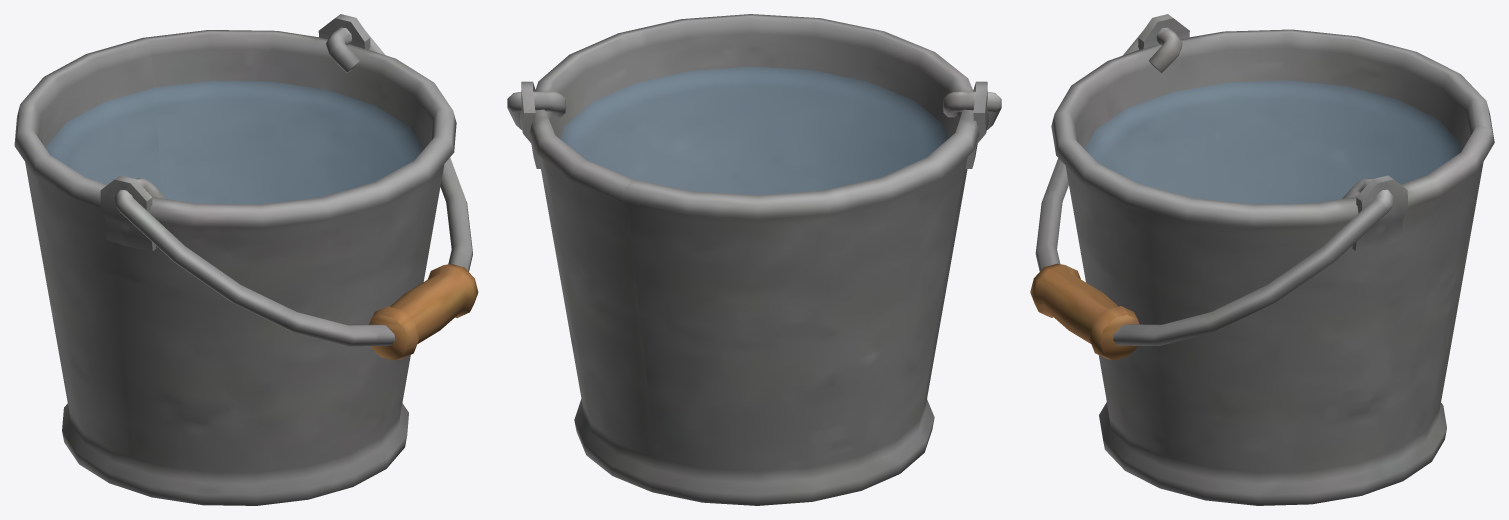
3 views of the same model, side by side, from view 1: azimuth 30°, elevation 25°; view 2: azimuth 150°, elevation 25°; view 3: azimuth 270°, elevation 25° (orthographic). The views are drawn at different scales.
Bounding box in the file's own units: 6.46 × 5.21 × 6.48.
2 materials, 1 textured.
